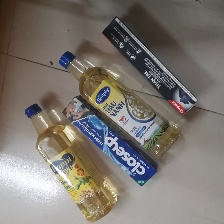CloseUp Tuyet: (58, 49, 181, 159)
Colgate Than: (100, 16, 199, 117), (62, 96, 158, 188)
Happy Soya: (24, 103, 121, 222)
